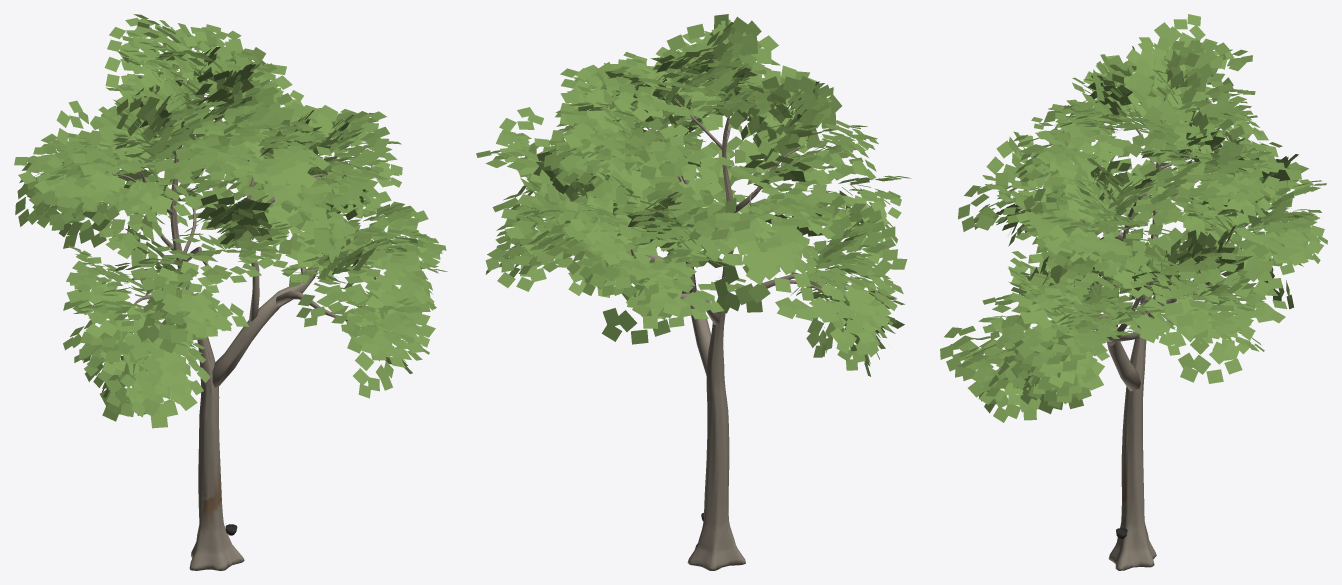
3 renders of one model, left to right at view 1: azimuth 30°, elevation 25°; view 2: azimuth 150°, elevation 25°; view 3: azimuth 270°, elevation 25°, orthographic. The views are drawn at different scales.
Visible parts, largest first — view 1: V20_LOD1_Foliage, V20_LOD1_Body; view 2: V20_LOD1_Foliage, V20_LOD1_Body; view 3: V20_LOD1_Foliage, V20_LOD1_Body.
Boxes of the visible parts, x1=… form: V20_LOD1_Foliage: x1=14, y1=14, x2=447, y2=428; V20_LOD1_Body: x1=113, y1=94, x2=367, y2=570; V20_LOD1_Foliage: x1=476, y1=14, x2=911, y2=376; V20_LOD1_Body: x1=629, y1=99, x2=826, y2=570; V20_LOD1_Foliage: x1=940, y1=14, x2=1327, y2=422; V20_LOD1_Body: x1=1030, y1=96, x2=1254, y2=570.
Size of the model in its own units: 9.08 by 13.04 by 8.74.
Materials: 2 (1 with a texture image).
